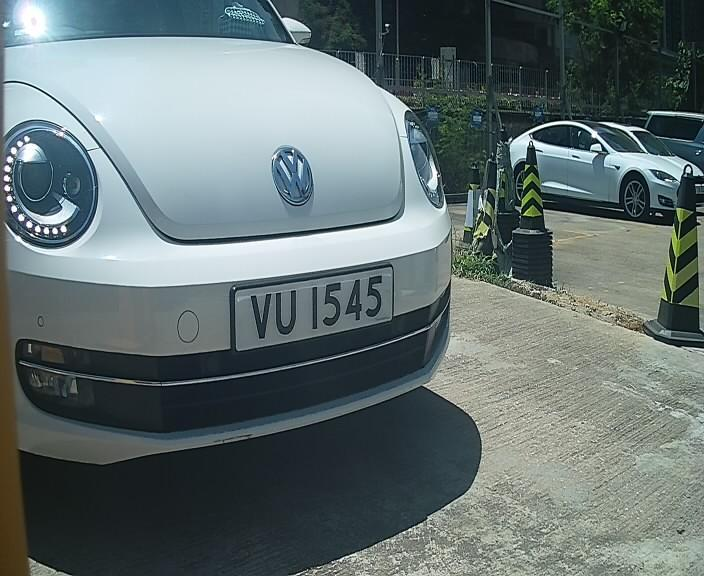privatecar: (4, 16, 513, 494)
